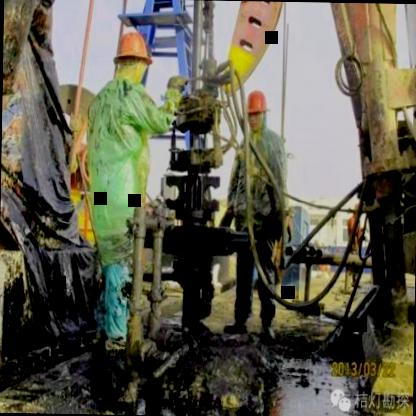helmet: (106, 18, 155, 94), (245, 85, 270, 134)
